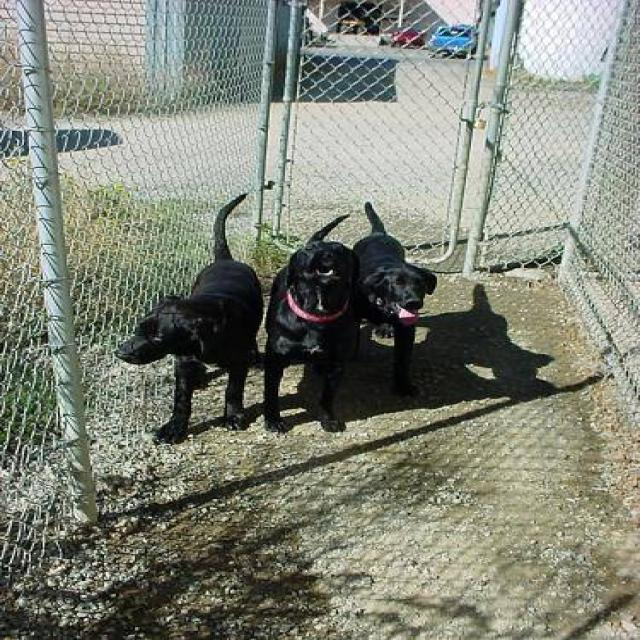dog: (113, 191, 264, 443), (261, 213, 360, 432), (350, 200, 437, 396)
